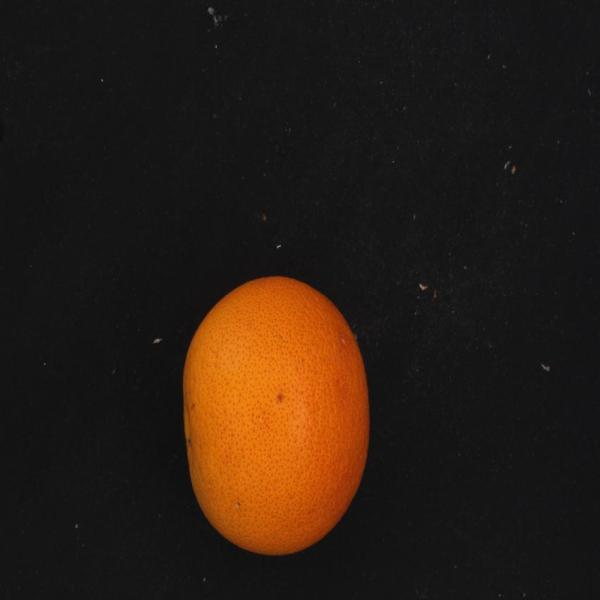Sana: (172, 247, 384, 573)
